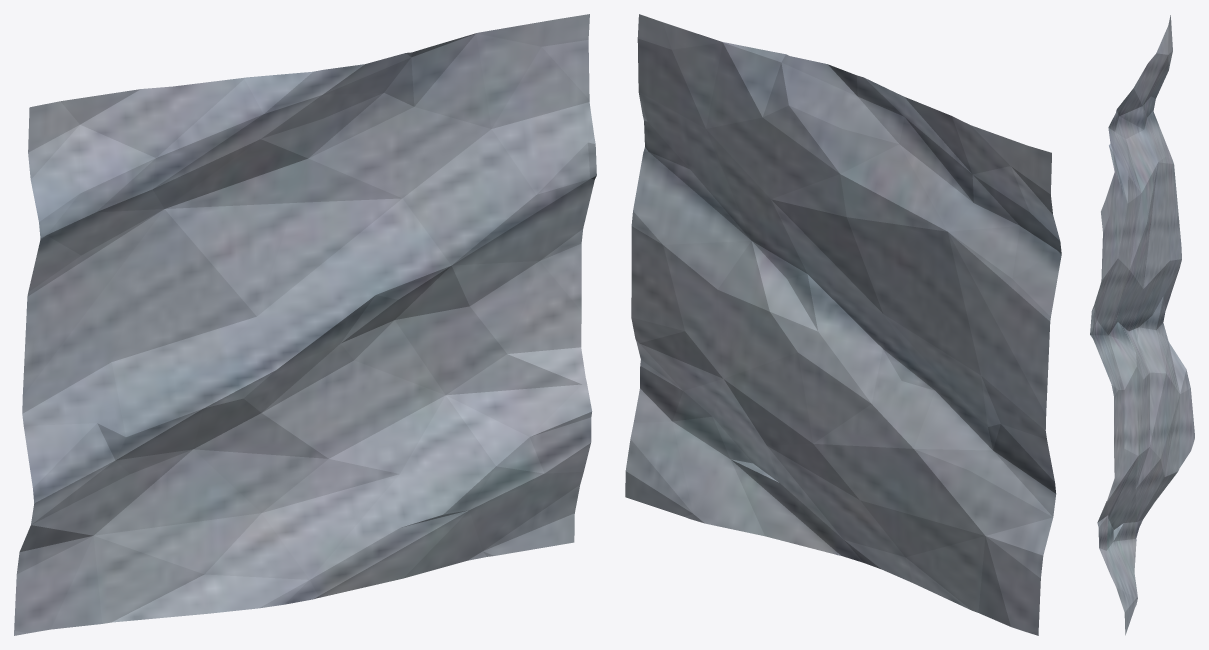
File: Tile_+003_+008_L24_0031032.obj
The picture shows the model from 3 angles, left to right: view 1: azimuth 30°, elevation 25°; view 2: azimuth 150°, elevation 25°; view 3: azimuth 270°, elevation 25°; orthographic projection. The views are drawn at different scales.
Bounding box in the file's own units: 0.9531 × 0.9531 × 0.2138.
1 material, 1 textured.
